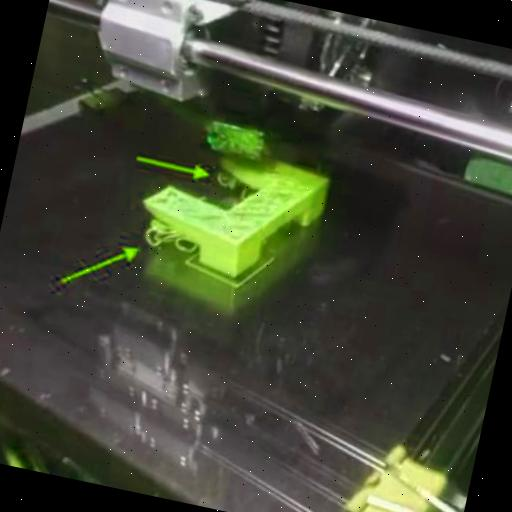spaghetti: (139, 212, 200, 260), (213, 168, 257, 202)
